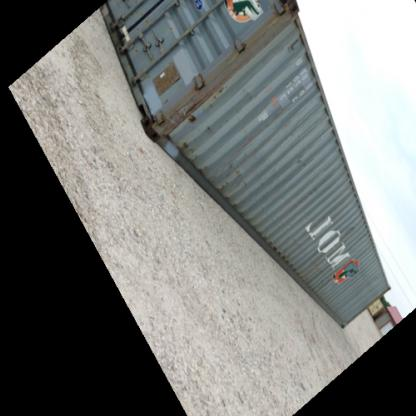Damage: (303, 255, 337, 292), (228, 158, 256, 197), (208, 83, 232, 105), (333, 223, 356, 245), (178, 137, 198, 157), (183, 108, 203, 126), (292, 157, 307, 170), (206, 126, 218, 138)
